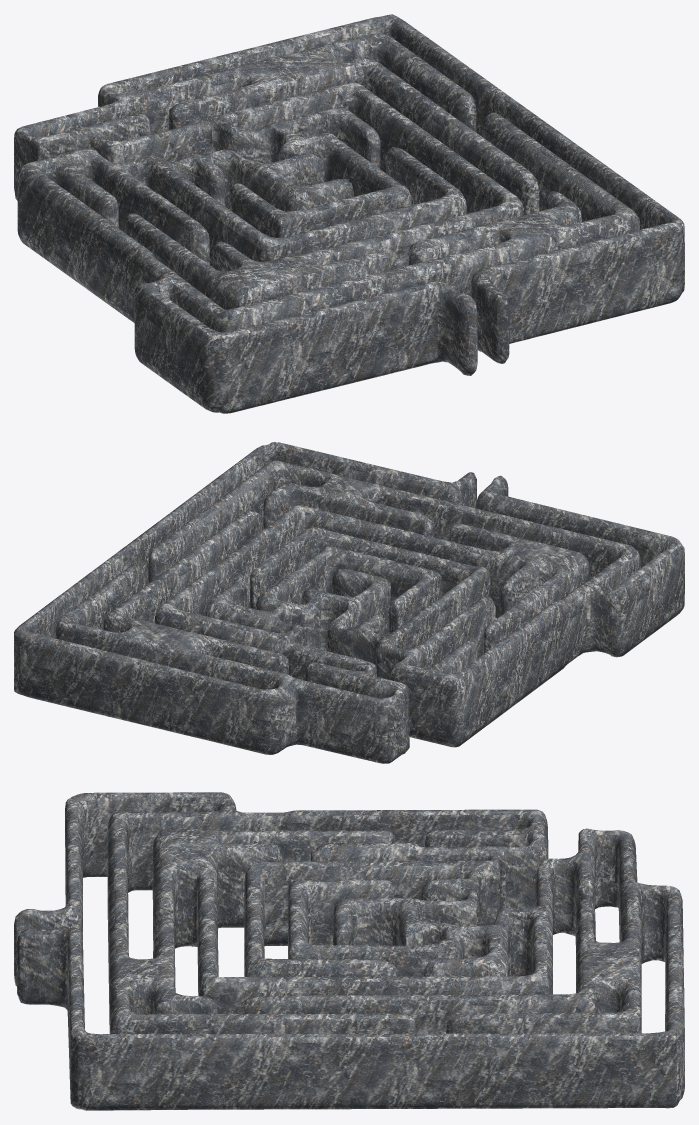
The model's file is belowmaze.glb.
3 views of the same model, one above another, from view 1: azimuth 30°, elevation 25°; view 2: azimuth 150°, elevation 25°; view 3: azimuth 270°, elevation 25° (orthographic). The views are drawn at different scales.
Parts seen in each view (by area): view 1: Selection.686; view 2: Selection.686; view 3: Selection.686.
Boxes of the visible parts, x1,y1,x2,y2 form: Selection.686: (14, 14, 684, 413); Selection.686: (14, 442, 684, 763); Selection.686: (14, 792, 684, 1110).
Size of the model in its own units: 12.95 by 2.09 by 14.91.
1 material, 1 textured.
